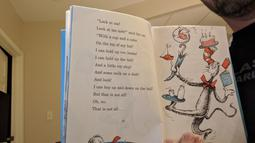text block: (90, 15, 158, 114)
